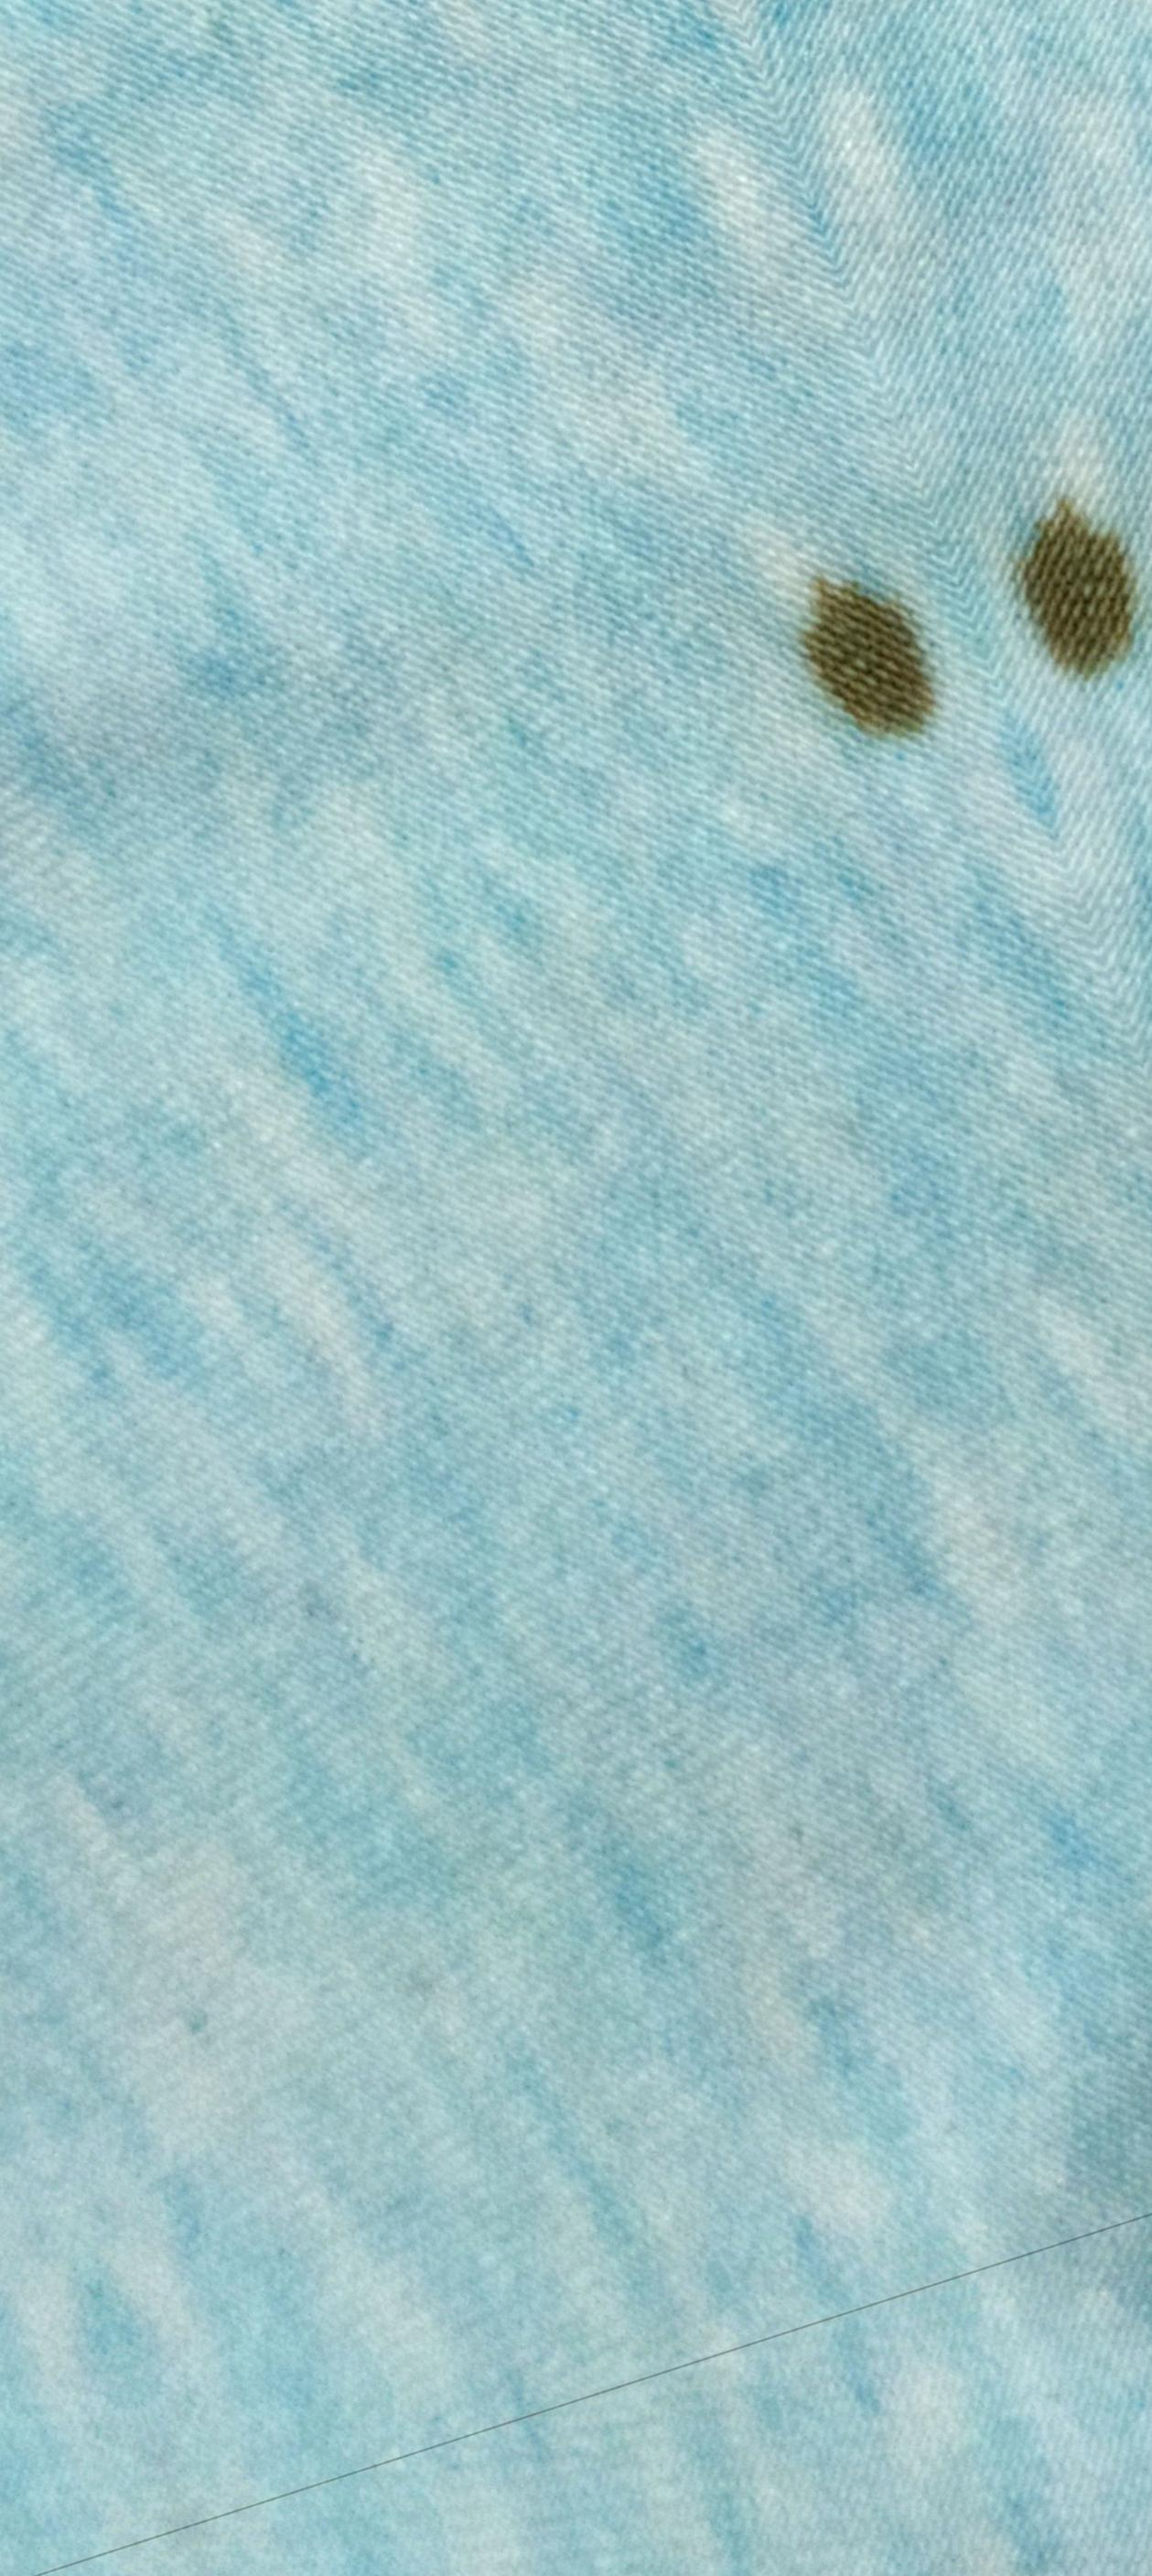stain: (784, 537, 966, 752), (1001, 473, 1147, 708)
